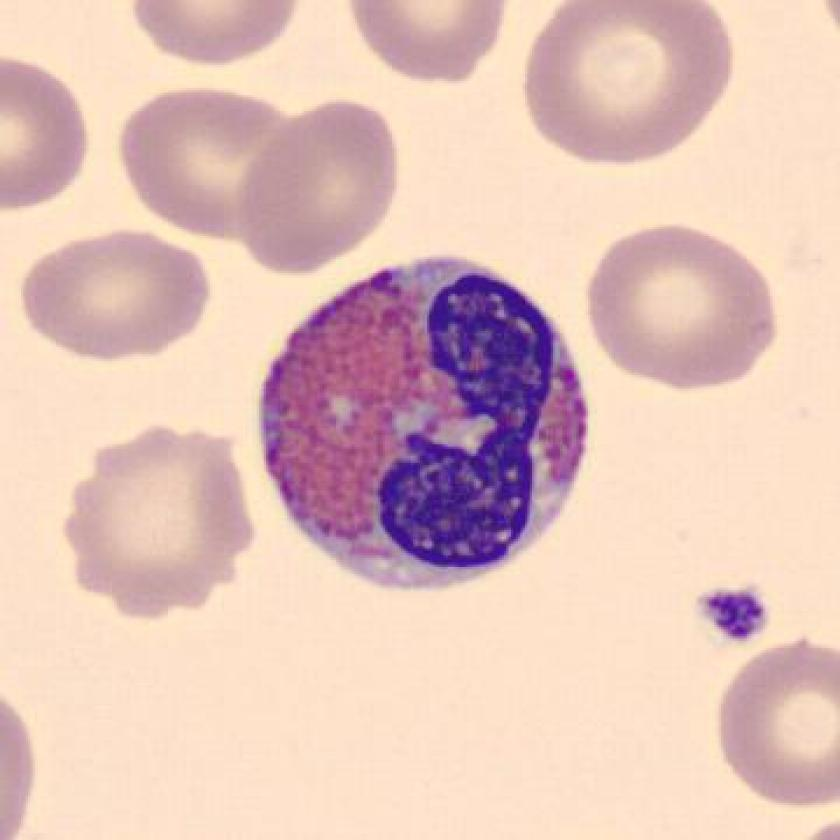eosinophil: (244, 246, 605, 596)
